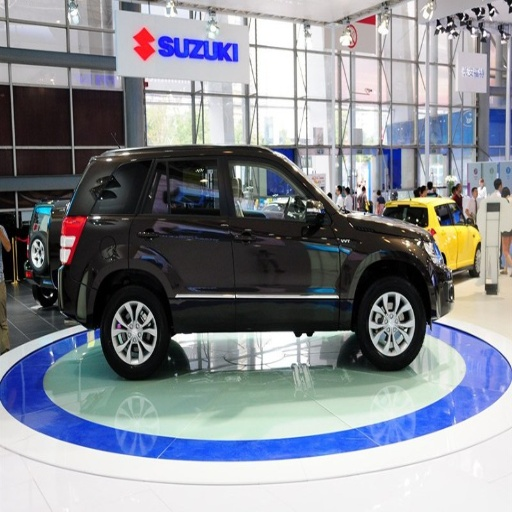back_right_door: (137, 153, 234, 328)
front_right_door: (226, 153, 340, 327)
